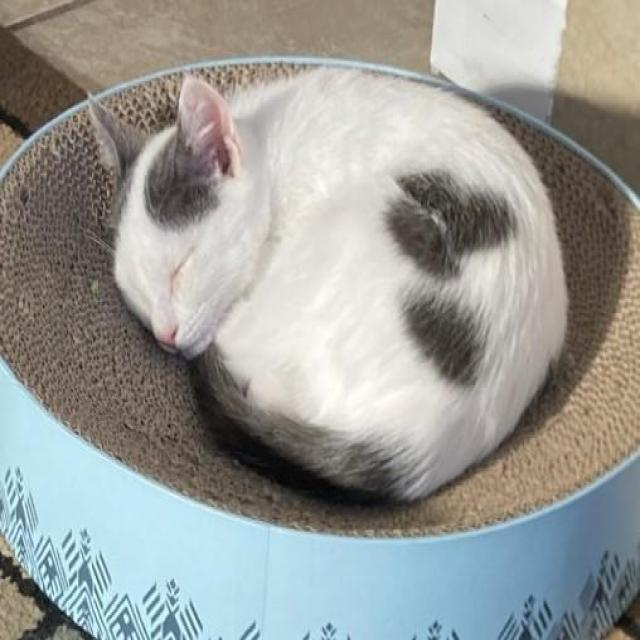american_shorthair_cat: (83, 69, 286, 368)
